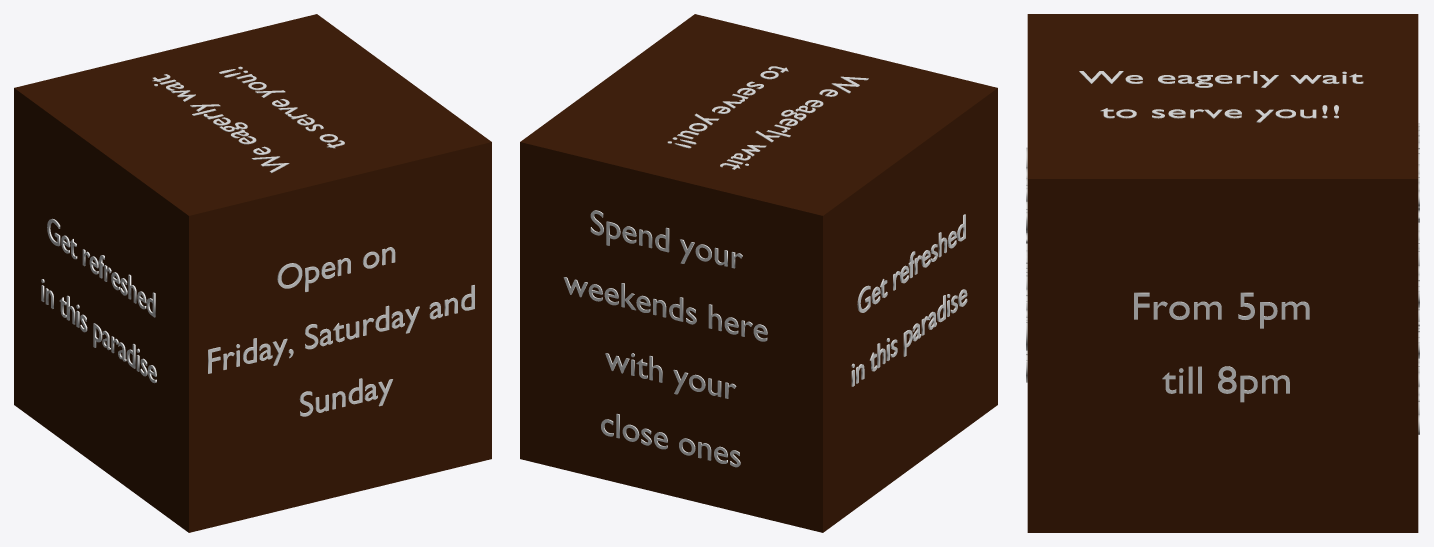
The picture shows the model from 3 angles, left to right: view 1: azimuth 30°, elevation 25°; view 2: azimuth 150°, elevation 25°; view 3: azimuth 270°, elevation 25°; orthographic projection. The views are drawn at different scales.
Visible parts, largest first — view 1: Cube, Text, Text.003, Text.004; view 2: Cube, Text.002, Text.003, Text.004; view 3: Cube, Text.001, Text.004, Text.002, Text.
Boxes of the visible parts, box(x1,y1,x2,y2) form: Cube: box(14, 14, 491, 532); Text: box(208, 247, 474, 416); Text.003: box(41, 218, 156, 383); Text.004: box(152, 66, 344, 172); Cube: box(520, 14, 997, 532); Text.002: box(563, 210, 767, 467); Text.003: box(851, 214, 967, 386); Text.004: box(667, 66, 868, 169); Cube: box(1027, 14, 1418, 532); Text.001: box(1134, 292, 1309, 402); Text.004: box(1079, 71, 1363, 122); Text.002: box(1418, 123, 1419, 434); Text: box(1026, 147, 1027, 382).
Bounding box in the file's own units: 3.71 × 3.7 × 3.71.
